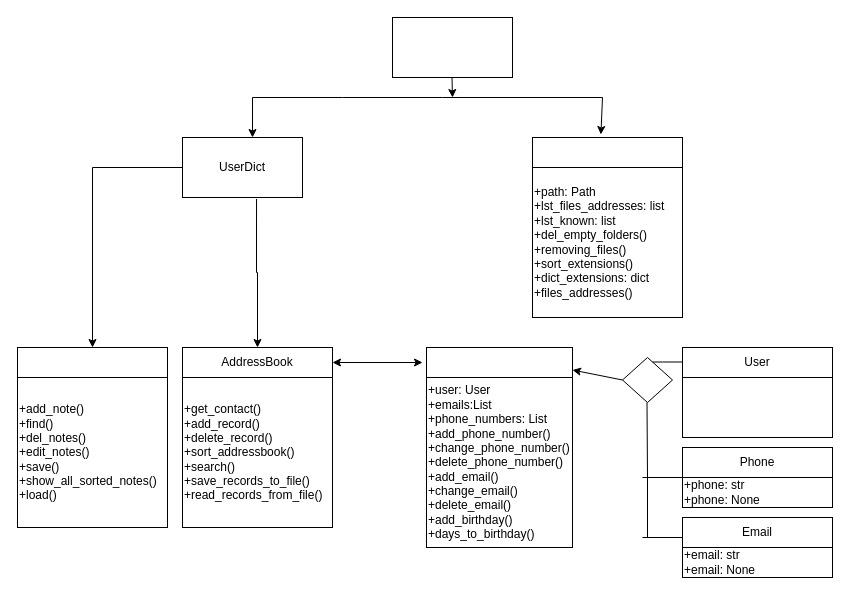
Some shapes in this 850 by 595 pixel diagram are drawn without their labels. Each missing label, with the box of its shape:
+birthday_date: date +birthday_date: None +name: str +name: None: (682, 376, 832, 438)
Helper Bot: (392, 16, 512, 78)
Notes: (16, 346, 168, 378)
Record: (426, 346, 572, 378)
SortingFiles: (532, 136, 682, 168)
